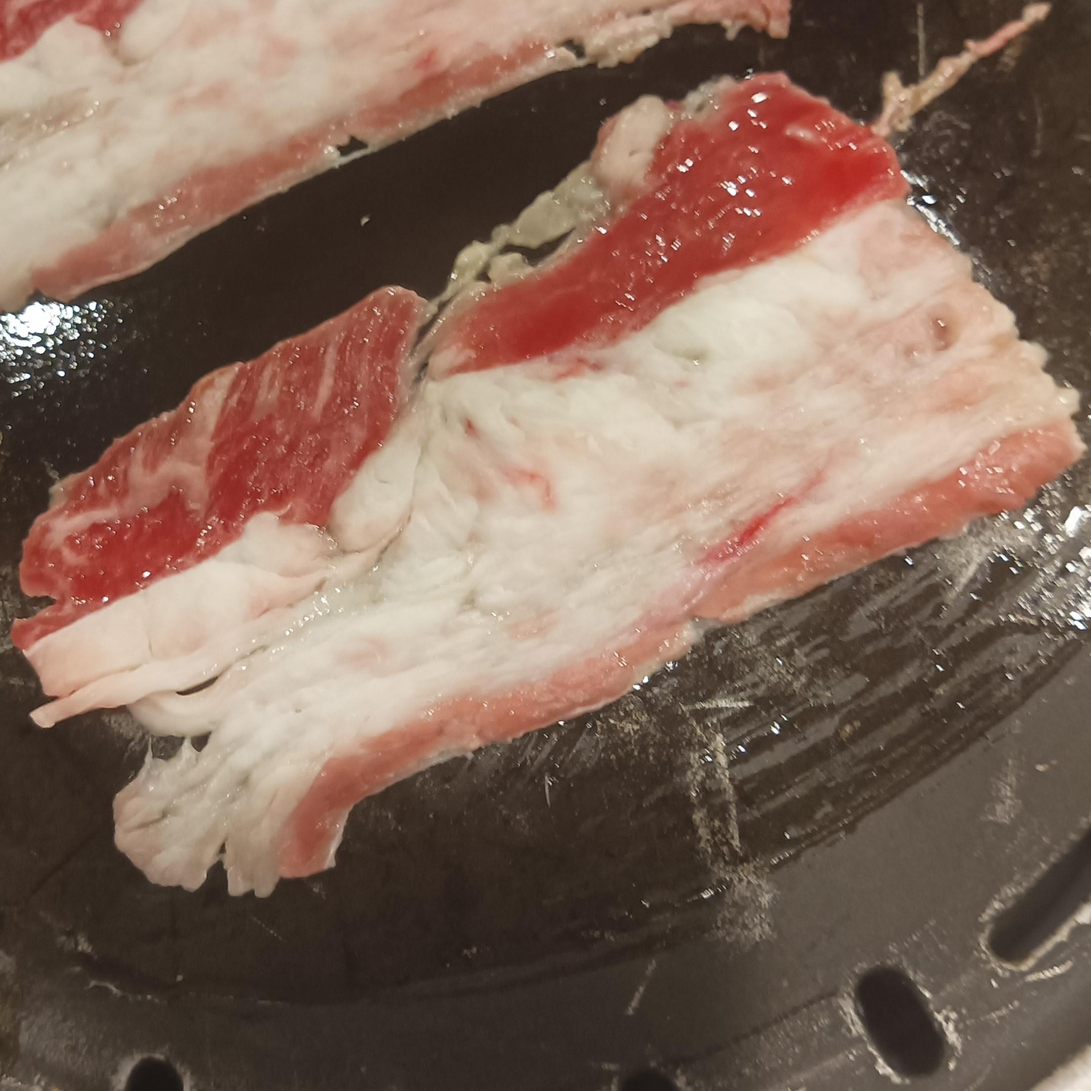Undercooked: (12, 75, 1082, 901), (0, 0, 813, 321)
